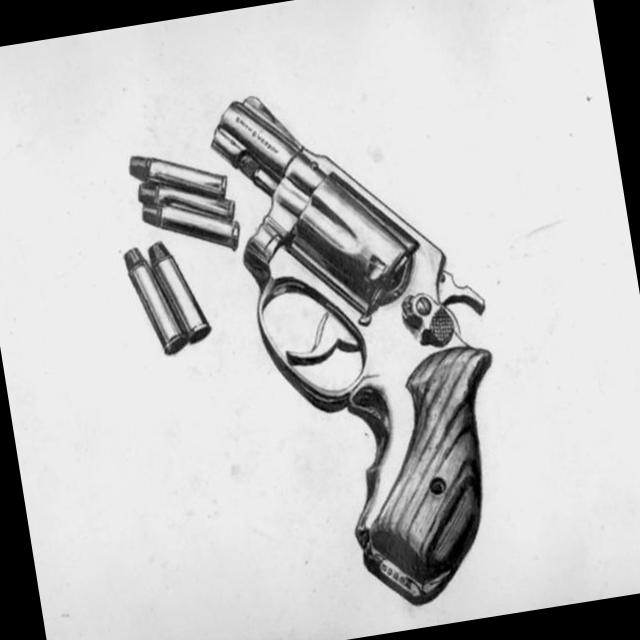Gun: (212, 97, 492, 605)
